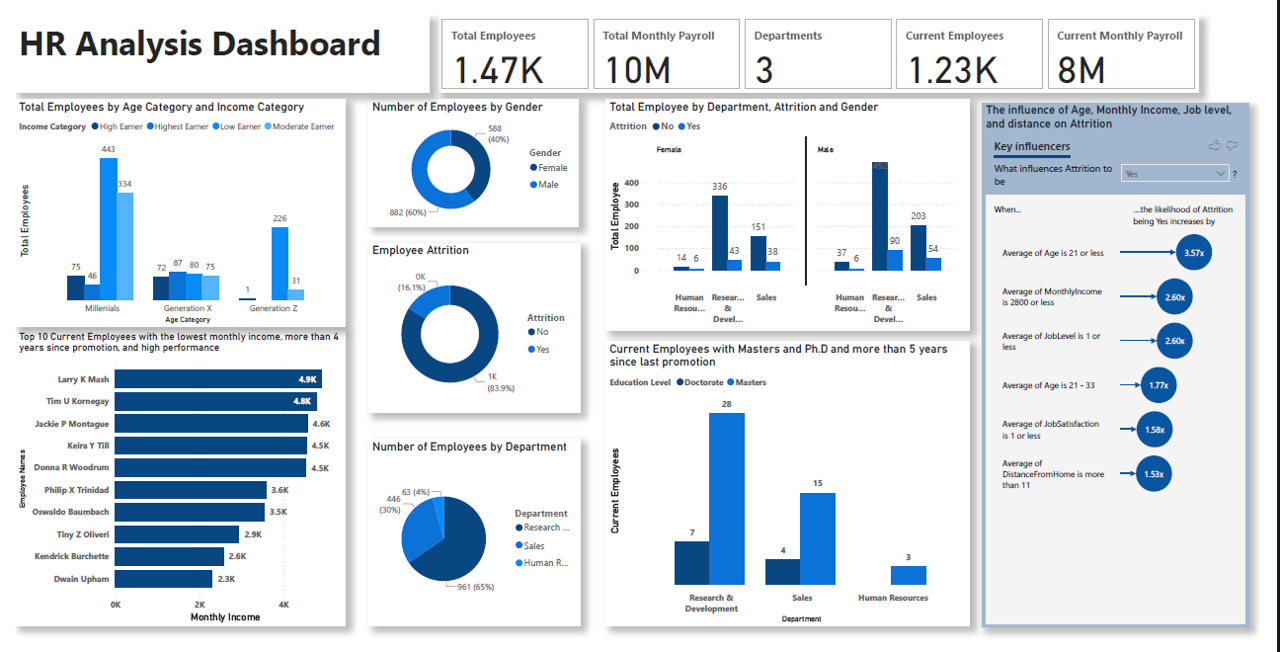

The dashboard page shown, as its layout file describes it:
{"tool":"powerbi","page":{"name":"Page 1","canvas":[1800,900],"ordinal":0},"visuals":[{"type":"cardVisual","fields":{"Data":["Count(HR Analytics Data.EmployeeNumber)","Sum(HR Analytics Data.MonthlyIncome)","Count(HR Analytics Data.Department)","HR Analytics Data.Current Employees","HR Analytics Data.Monthly Payroll"]},"box":[612.5,0,1098.2,110.7],"z":0},{"type":"donutChart","title":"Number of Employees by Gender","fields":{"Category":["HR Analytics Data.Gender"],"Y":["Count(HR Analytics Data.EmployeeNumber)"]},"box":[510.7,121.4,303.6,183.9],"z":1000},{"type":"donutChart","title":"Employee Attrition","fields":{"Category":["HR Analytics Data.Attrition"],"Y":["Count(HR Analytics Data.EmployeeNumber)"]},"box":[510.7,328.6,305.4,244.6],"z":2000},{"type":"pieChart","title":"Number of Employees by Department","fields":{"Category":["HR Analytics Data.Department"],"Y":["Count(HR Analytics Data.EmployeeNumber)"]},"box":[510.7,612.5,305.4,269.6],"z":3000},{"type":"textbox","box":[0,0,597.8,111.1],"z":6000},{"type":"keyDriversVisual","title":"The influence of Age, Monthly Income, Job level, and distance on Attrition","fields":{"Target":["HR Analytics Data.Attrition"],"ExplainBy":["Avg(HR Analytics Data.JobLevel)","Avg(HR Analytics Data.MonthlyIncome)","Avg(HR Analytics Data.DistanceFromHome)","Avg(HR Analytics Data.JobSatisfaction)","Avg(HR Analytics Data.Age)"]},"box":[1397.8,125.5,385.1,758.8],"z":7000},{"type":"clusteredBarChart","title":"Top 10 Current Employees with the lowest monthly income, more than 4 years since promotion, and high performance","fields":{"Category":["HR Analytics Data.Employee Names"],"Y":["Sum(HR Analytics Data.MonthlyIncome)"]},"box":[0,455.4,476.8,426.8],"z":8000},{"type":"clusteredColumnChart","title":"Current Employees with Masters and Ph.D and more than 5 years since last promotion","fields":{"Category":["HR Analytics Data.Department"],"Y":["Count(HR Analytics Data.EmployeeNumber)"],"Series":["HR Analytics Data.Education Level"]},"box":[853.6,471.4,525,410.7],"z":9000},{"type":"clusteredColumnChart","fields":{"Category":["HR Analytics Data.Department"],"Y":["Count(HR Analytics Data.EmployeeNumber)"],"Rows":["HR Analytics Data.Gender"],"Series":["HR Analytics Data.Attrition"]},"box":[853.6,121.4,525,333.9],"z":10000},{"type":"clusteredColumnChart","fields":{"Category":["HR Analytics Data.Age Category"],"Y":["Count(HR Analytics Data.EmployeeNumber)"],"Series":["HR Analytics Data.Income Category"]},"box":[0,121.4,476.8,328.6],"z":11000}]}

Visuals, with their boxes in screenshot pixels (x1, y1, x2, y2), scaled from the page's 1800x900 canvas onto the 1280x652 screenshot:
cardVisual - Count(HR Analytics Data.EmployeeNumber) x Sum(HR Analytics Data.MonthlyIncome): bbox=[436, 0, 1216, 80]
"Number of Employees by Gender" donutChart: bbox=[363, 88, 579, 221]
"Employee Attrition" donutChart: bbox=[363, 238, 580, 415]
"Number of Employees by Department" pieChart: bbox=[363, 444, 580, 639]
textbox: bbox=[0, 0, 425, 80]
"The influence of Age, Monthly Income, Job level, and distance on Attrition" keyDriversVisual: bbox=[994, 91, 1268, 641]
"Top 10 Current Employees with the lowest monthly income, more than 4 years since promotion, and high performance" clusteredBarChart: bbox=[0, 330, 339, 639]
"Current Employees with Masters and Ph.D and more than 5 years since last promotion" clusteredColumnChart: bbox=[607, 342, 980, 639]
clusteredColumnChart - HR Analytics Data.Department x Count(HR Analytics Data.EmployeeNumber): bbox=[607, 88, 980, 330]
clusteredColumnChart - HR Analytics Data.Age Category x Count(HR Analytics Data.EmployeeNumber): bbox=[0, 88, 339, 326]
